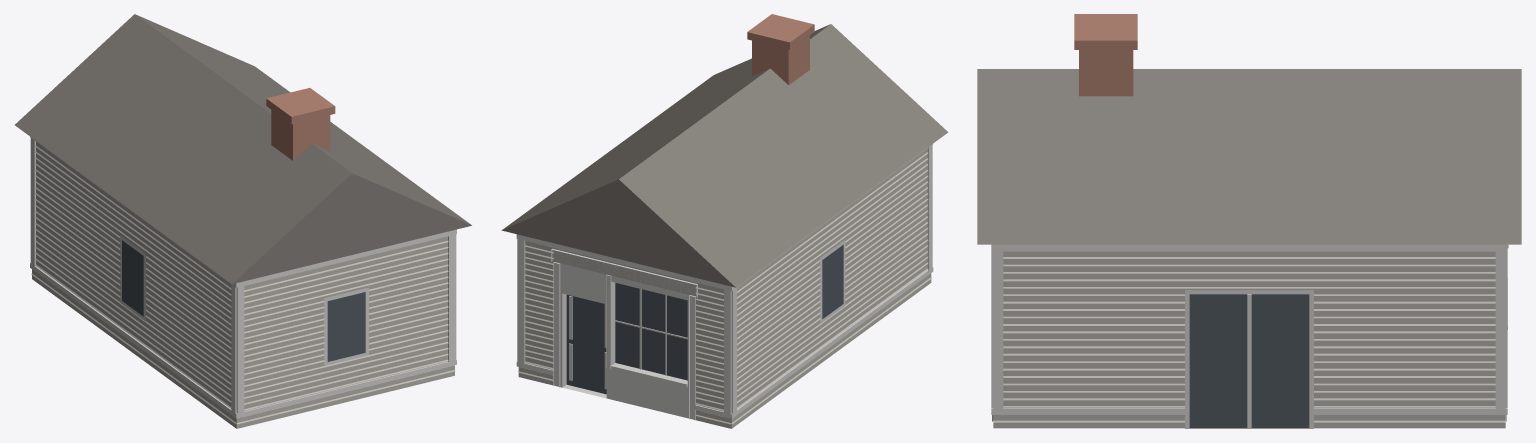
Rendered from recon_1835_west_007__inferred_1835.glb.
3 views of the same model, side by side, from view 1: azimuth 30°, elevation 25°; view 2: azimuth 150°, elevation 25°; view 3: azimuth 270°, elevation 25° (orthographic). The views are drawn at different scales.
Parts seen in each view (by area): view 1: recon_1835_west_007__inferred_1835; view 2: recon_1835_west_007__inferred_1835; view 3: recon_1835_west_007__inferred_1835.
Boxes of the visible parts, left/top/right/bottom form: recon_1835_west_007__inferred_1835: left=15, top=14, right=471, bottom=428; recon_1835_west_007__inferred_1835: left=501, top=14, right=948, bottom=428; recon_1835_west_007__inferred_1835: left=977, top=14, right=1521, bottom=428.
Size of the model in its own units: 5.38 by 5.71 by 8.43.
